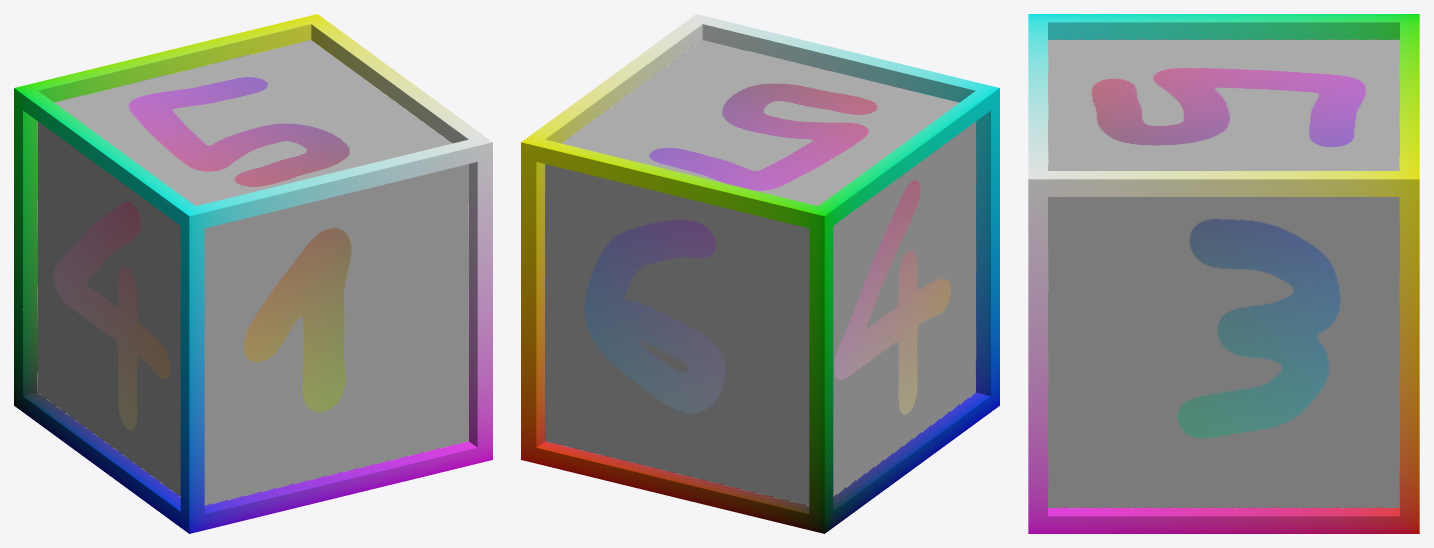
3 renders of one model, left to right at view 1: azimuth 30°, elevation 25°; view 2: azimuth 150°, elevation 25°; view 3: azimuth 270°, elevation 25°, orthographic. The views are drawn at different scales.
Visible parts, largest first — view 1: baked; view 2: baked; view 3: baked.
Boxes of the visible parts, x1,y1,x2,y2 form: baked: (14,14,492,533); baked: (521,14,999,533); baked: (1028,14,1419,533).
Size of the model in its own units: 2 by 2 by 2.
Materials: 1 (1 with a texture image).
